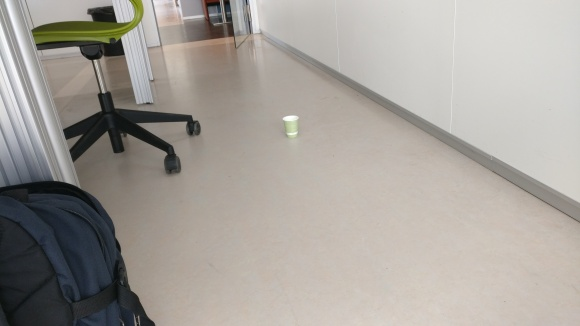cup: (281, 114, 299, 138)
